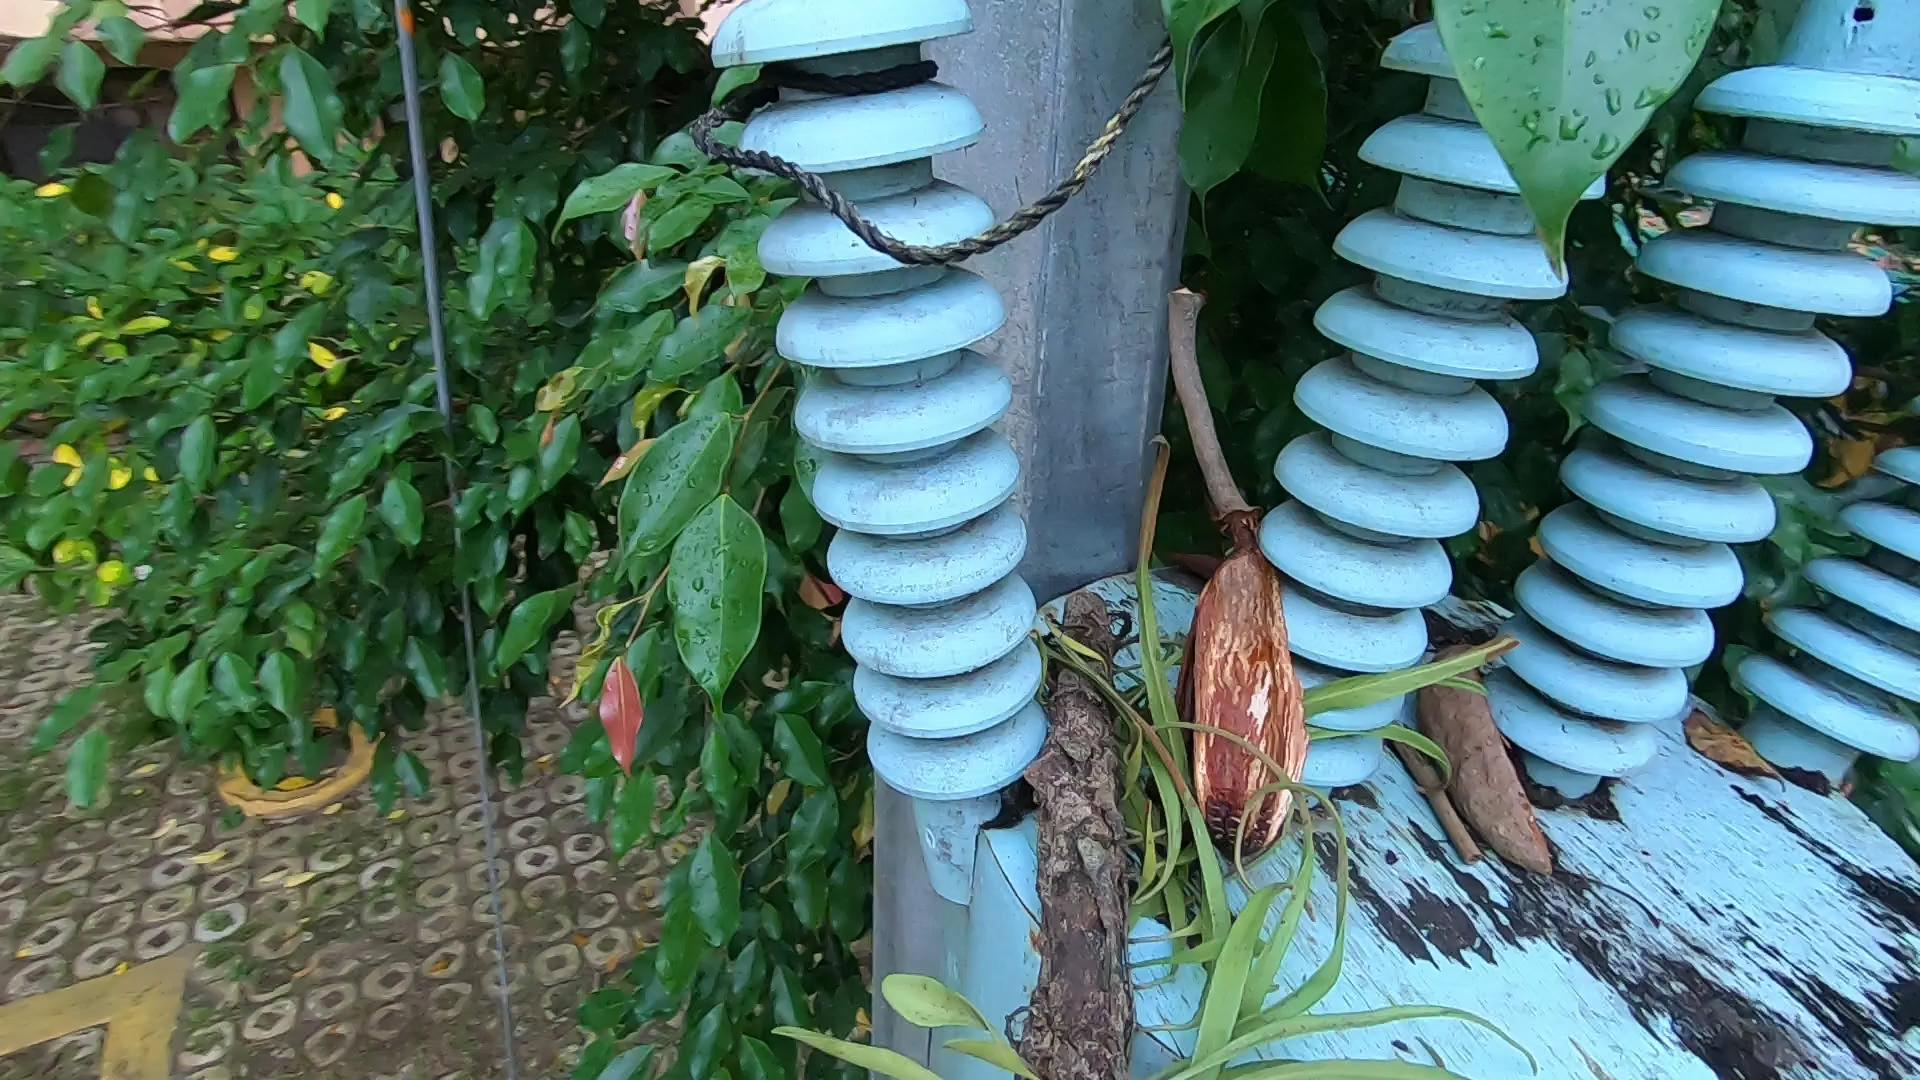branch with leaves: (986, 438, 1519, 1080)
leaf: (1679, 707, 1797, 796)
mahogany fruit: (1166, 491, 1331, 857), (1412, 611, 1576, 911)
tree branch: (1151, 278, 1273, 524), (1378, 731, 1491, 866)
